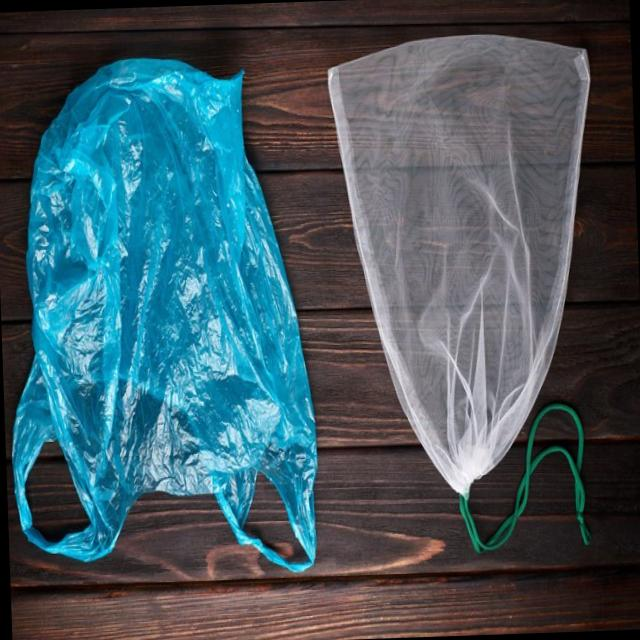plastic_bag: (8, 49, 338, 568), (316, 13, 602, 521)
